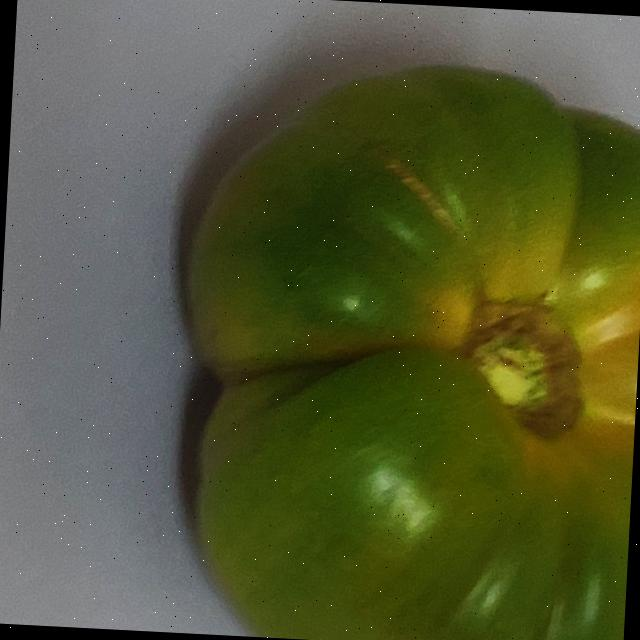tomato: (9, 0, 640, 640)
